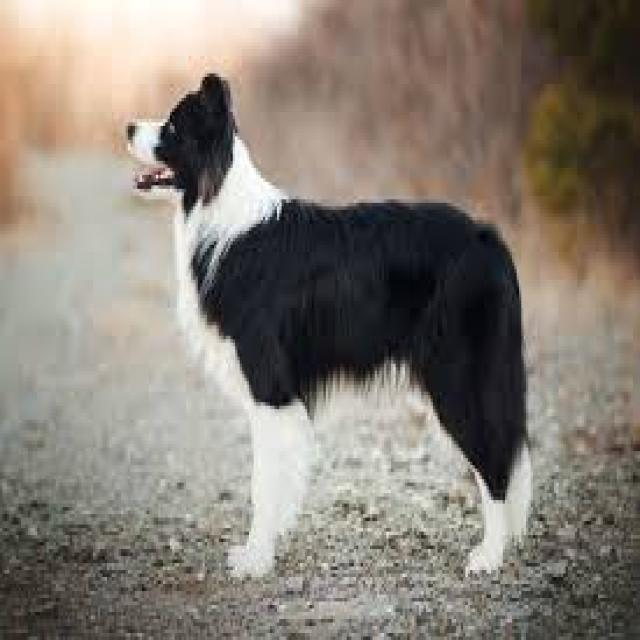BORDER_COLLIE: (113, 52, 552, 604)
